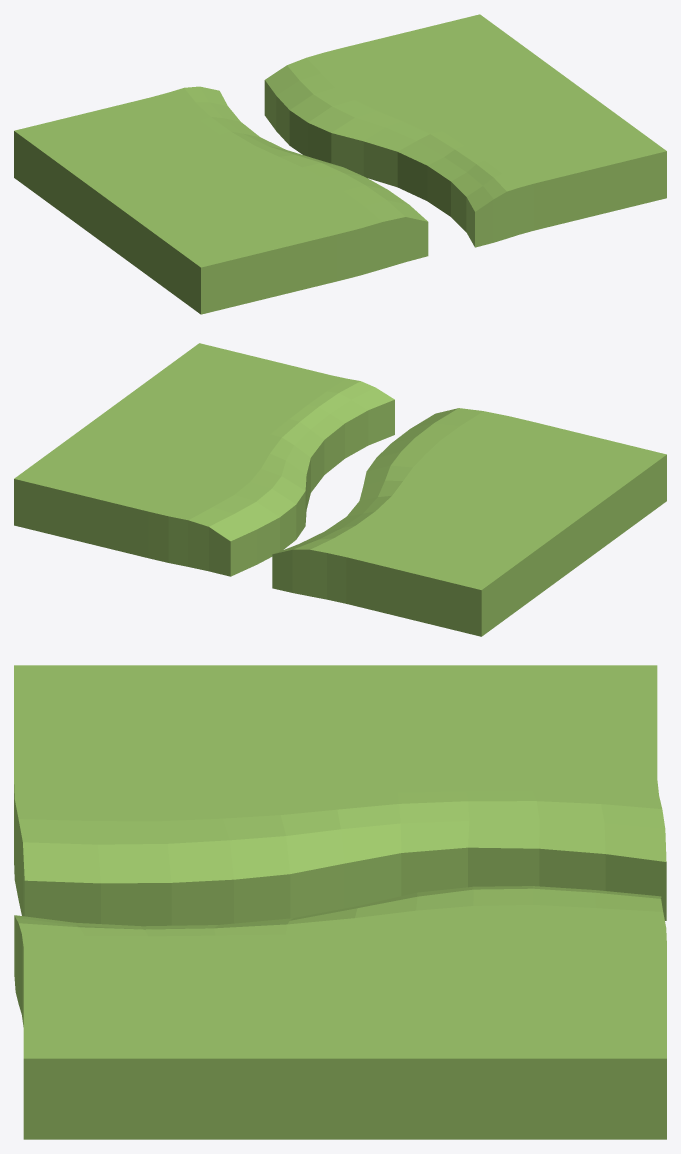
Rendered from stream.fbx.
The picture shows the model from 3 angles, top to bottom: view 1: azimuth 30°, elevation 25°; view 2: azimuth 150°, elevation 25°; view 3: azimuth 270°, elevation 25°; orthographic projection. The views are drawn at different scales.
Parts seen in each view (by area): view 1: Prelim_River_Hard2; view 2: Prelim_River_Hard2; view 3: Prelim_River_Hard2.
Part boxes in pixels (x1,y1,x2,y2): Prelim_River_Hard2: [14, 14, 666, 314]; Prelim_River_Hard2: [14, 343, 666, 636]; Prelim_River_Hard2: [14, 665, 666, 1139].
Size of the model in its own units: 421 by 40.41 by 295.
